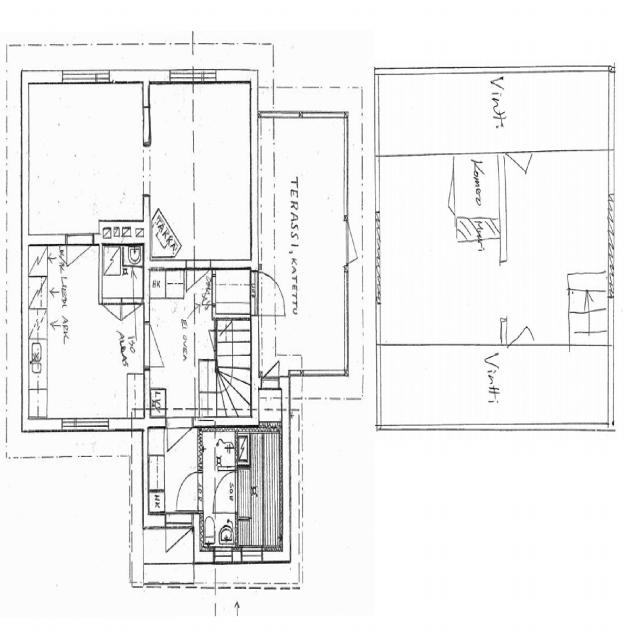door: (67, 233, 94, 290), (144, 322, 178, 367), (166, 513, 192, 571), (426, 166, 458, 212), (251, 271, 284, 312), (166, 419, 192, 471), (344, 221, 375, 264), (186, 259, 211, 309), (209, 472, 238, 514), (509, 147, 534, 194), (510, 303, 534, 350), (175, 472, 203, 510), (261, 346, 279, 389), (103, 299, 123, 336), (123, 299, 142, 336), (202, 330, 217, 351)
